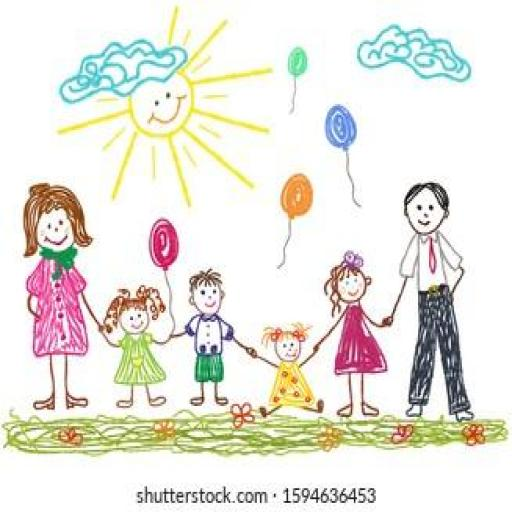person: (16, 178, 108, 425), (392, 178, 477, 422), (321, 250, 394, 417), (172, 265, 250, 413), (98, 278, 172, 410), (249, 320, 321, 422)
